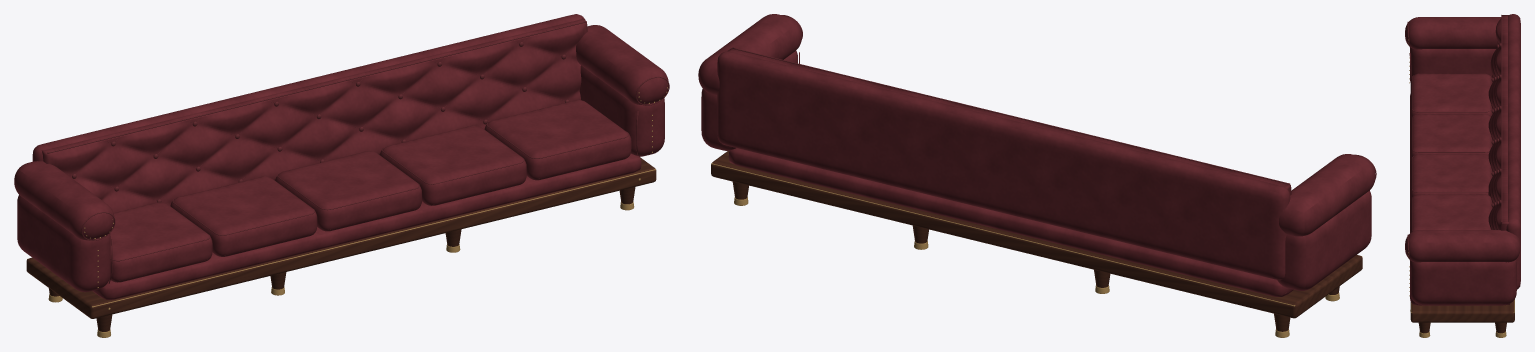
File: vip-couch.glb
3 views of the same model, side by side, from view 1: azimuth 30°, elevation 25°; view 2: azimuth 150°, elevation 25°; view 3: azimuth 270°, elevation 25° (orthographic). The views are drawn at different scales.
Visible parts, largest first — view 1: 01 Oxblood leather • pebbled grain, 04 Hand finished walnut, 02 Rolled leather welt, 05 Antique brass • feet and nailheads; view 2: 01 Oxblood leather • pebbled grain, 04 Hand finished walnut, 05 Antique brass • feet and nailheads, 02 Rolled leather welt; view 3: 01 Oxblood leather • pebbled grain, 04 Hand finished walnut, 02 Rolled leather welt, 05 Antique brass • feet and nailheads.
Boxes of the visible parts, x1,y1,x2,y2 form: 01 Oxblood leather • pebbled grain: [14, 14, 668, 299]; 04 Hand finished walnut: [26, 157, 656, 331]; 02 Rolled leather welt: [47, 21, 669, 296]; 05 Antique brass • feet and nailheads: [27, 87, 667, 337]; 01 Oxblood leather • pebbled grain: [698, 14, 1375, 296]; 04 Hand finished walnut: [711, 151, 1362, 331]; 05 Antique brass • feet and nailheads: [711, 163, 1362, 337]; 02 Rolled leather welt: [732, 15, 1376, 293]; 01 Oxblood leather • pebbled grain: [1405, 14, 1520, 305]; 04 Hand finished walnut: [1410, 299, 1514, 333]; 02 Rolled leather welt: [1407, 15, 1502, 303]; 05 Antique brass • feet and nailheads: [1408, 39, 1514, 337].
Size of the model in its own units: 4.96 by 1.19 by 1.06.
Materials: 6 (2 with a texture image).
